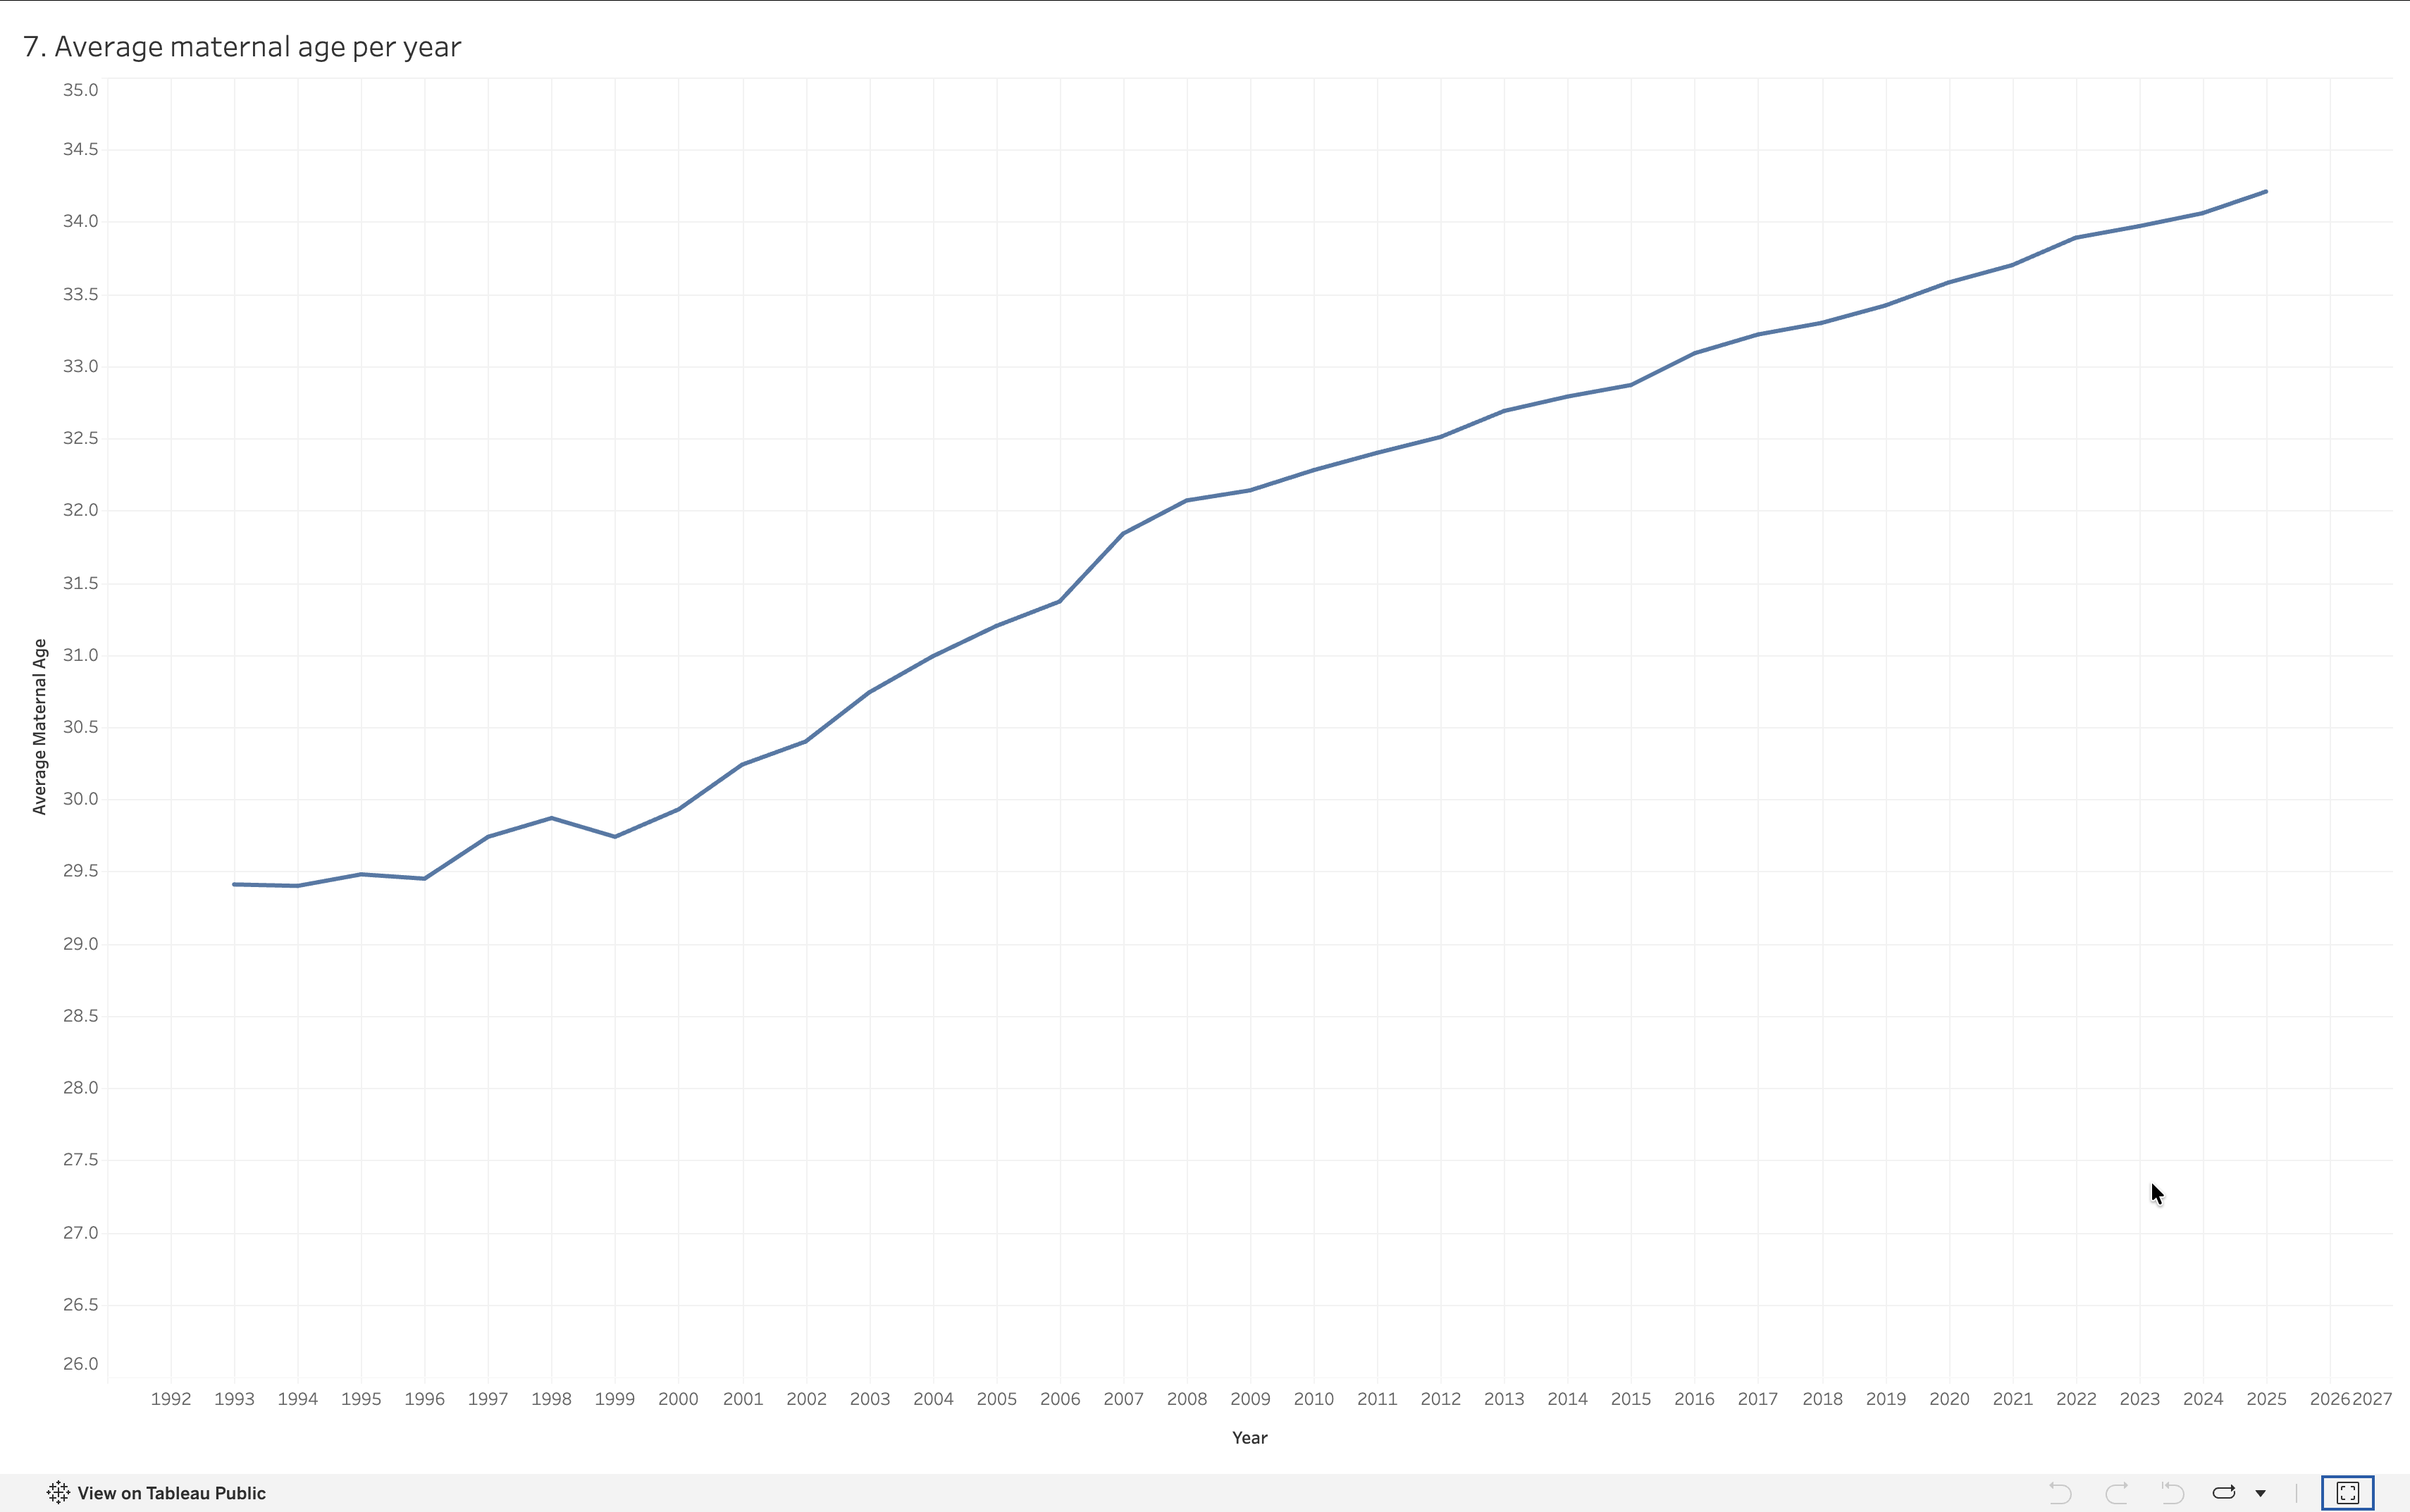

Layout of this report page (visuals, bound fields, positions):
{"tool":"tableau","page":{"name":"Stadt Zurich Births: Analysis 7","canvas":[1000,1000],"units":"permille","ordinal":7},"visuals":[{"type":"worksheet","title":"7. Average maternal age per year","mark":"Automatic","rows":["0"],"cols":["year"],"box":[5.3,9,989.3,982]}]}

Visuals, with their boxes on the dashboard's canvas, which has no fixed pixel size, in thousandths of its width and height (x1, y1, x2, y2). These are canvas units, not pixel positions in the 2410x1512 screenshot, which may show the page scaled, cropped or inside an application window:
"7. Average maternal age per year" worksheet: x1=5 y1=9 x2=995 y2=991
